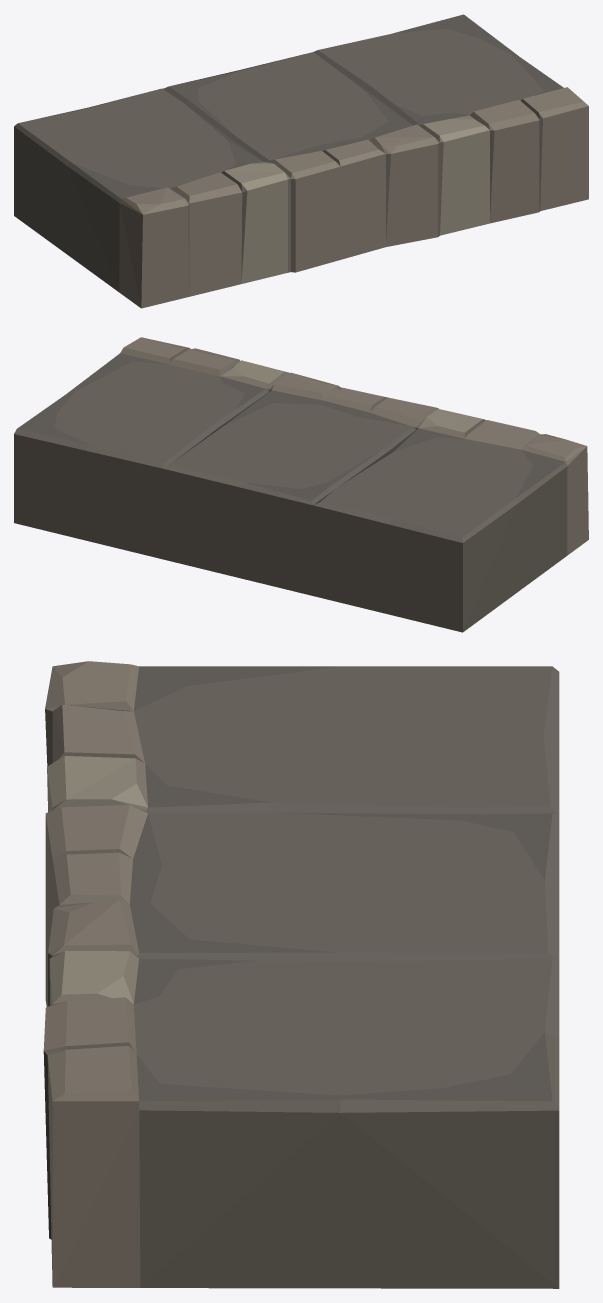
The model's file is SM_Env_Sidewalk_Straight_02.glb.
The picture shows the model from 3 angles, top to bottom: view 1: azimuth 30°, elevation 25°; view 2: azimuth 150°, elevation 25°; view 3: azimuth 270°, elevation 25°; orthographic projection. The views are drawn at different scales.
Visible parts, largest first — view 1: SM_Env_Sidewalk_Straight_02; view 2: SM_Env_Sidewalk_Straight_02; view 3: SM_Env_Sidewalk_Straight_02.
Boxes of the visible parts, x1,y1,x2,y2 form: SM_Env_Sidewalk_Straight_02: (14,14,588,308); SM_Env_Sidewalk_Straight_02: (14,337,588,632); SM_Env_Sidewalk_Straight_02: (43,661,559,1288).
Bounding box in the file's own units: 5.07 × 1.05 × 2.5.
1 material, 1 textured.
